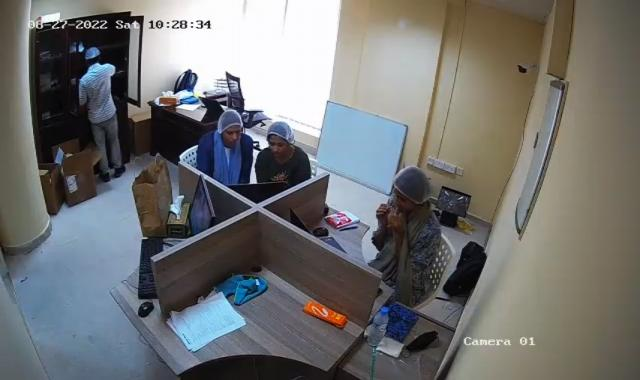hairnet: (390, 167, 432, 216), (212, 107, 250, 146), (266, 119, 296, 158), (80, 42, 105, 71)
